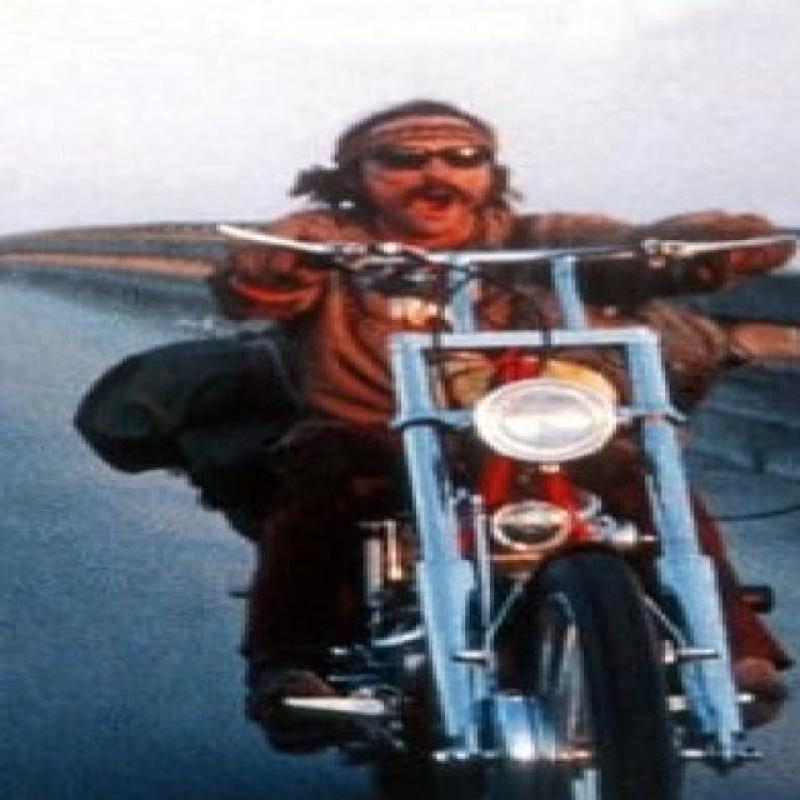nohelmet: (299, 98, 504, 226)
